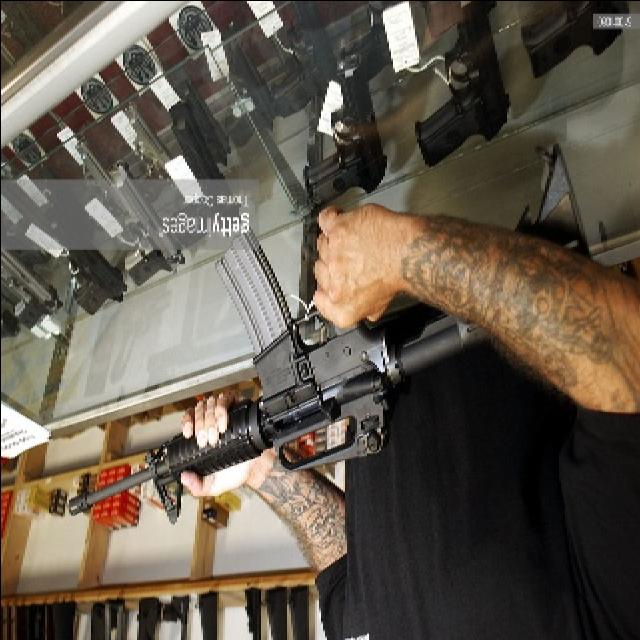rifle: (65, 234, 563, 529)
